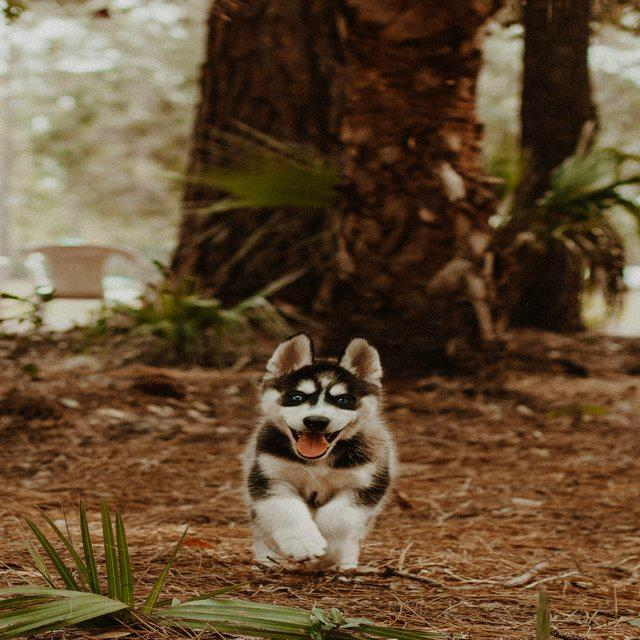husky: (242, 331, 401, 573)
